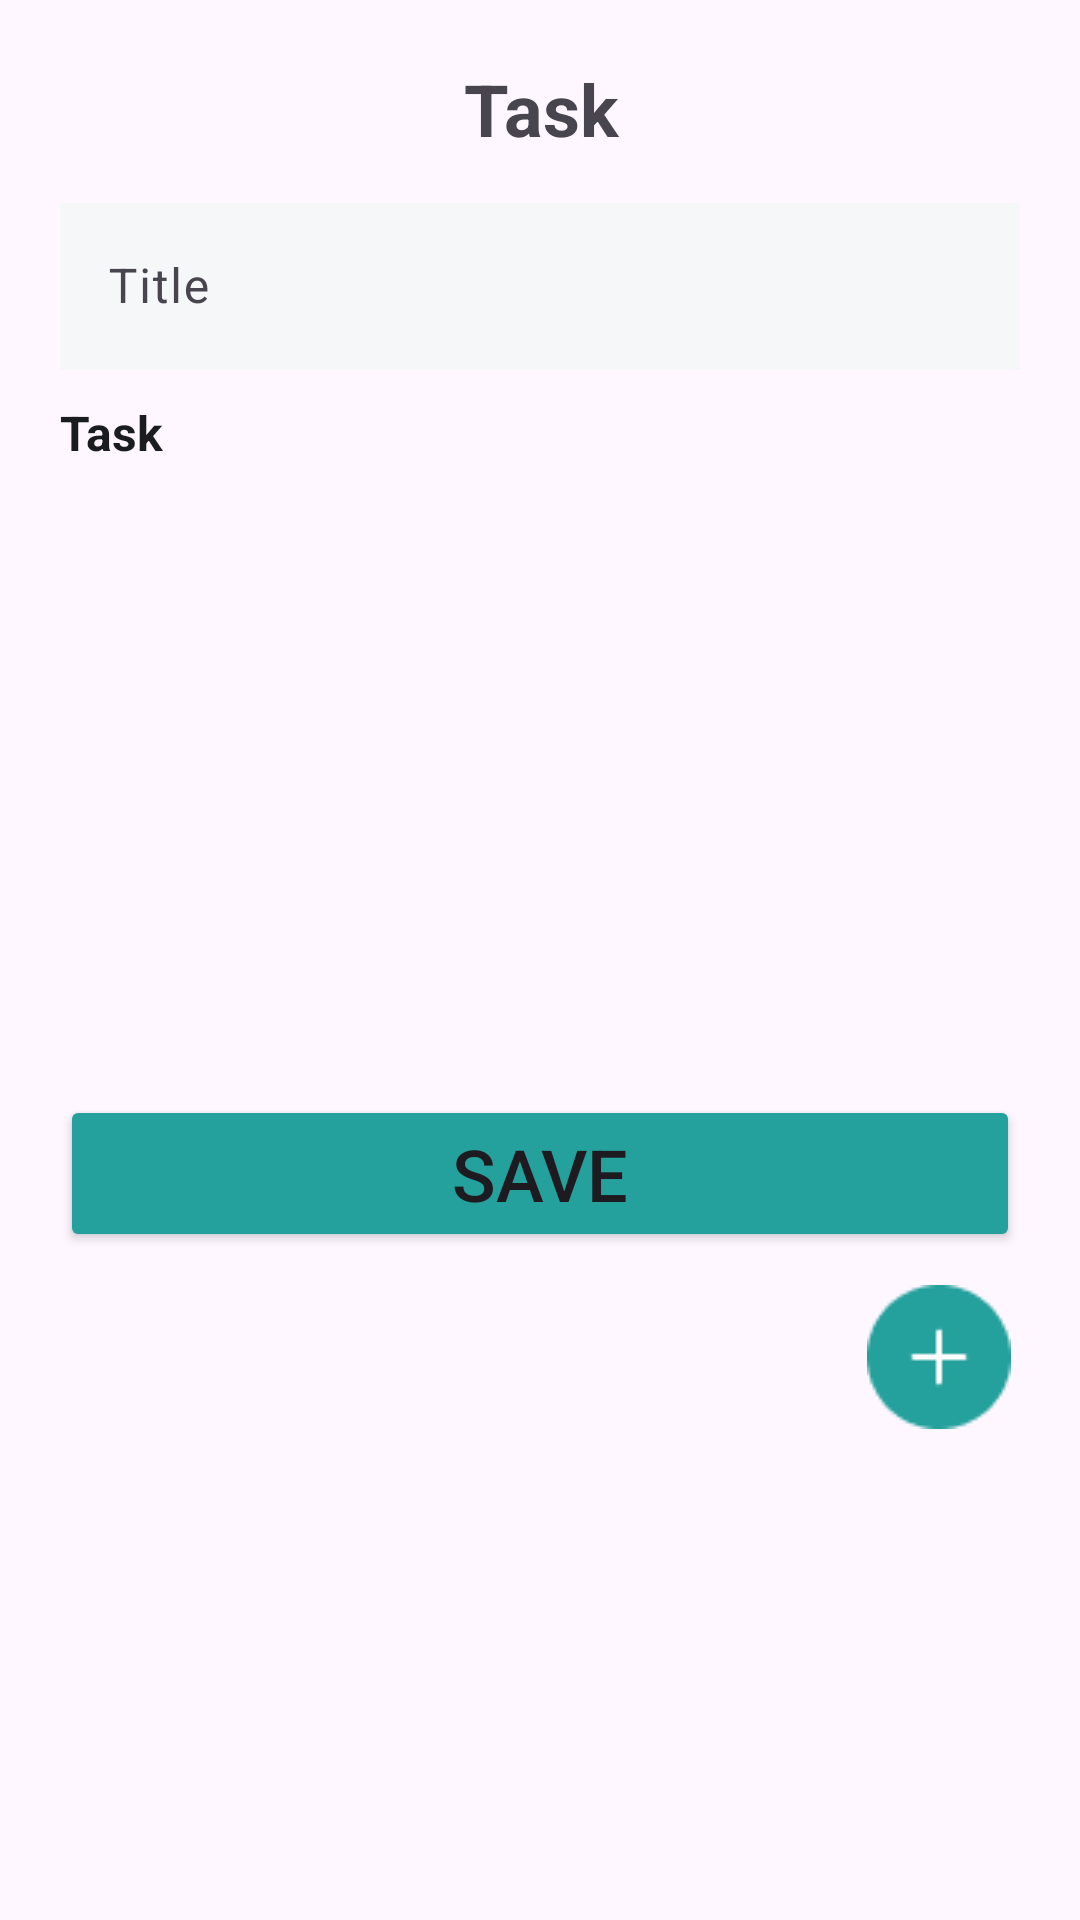

Named icons in this screenshot (1080×1920) and their centers, (x,y):
add: (939,1357)
